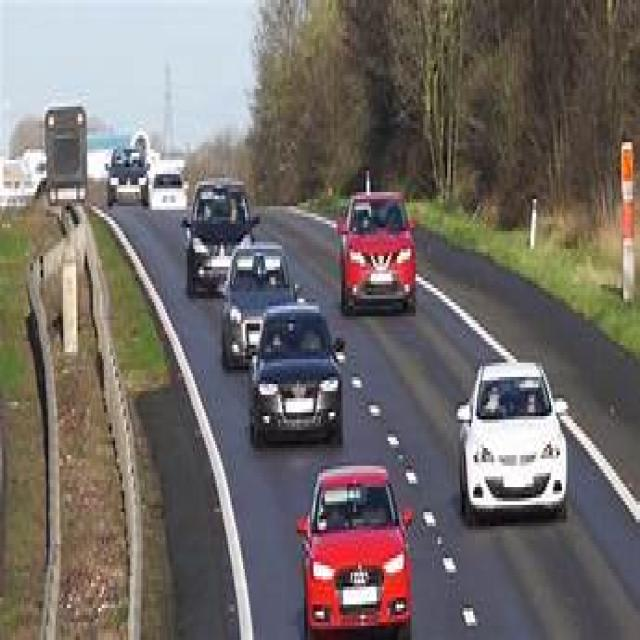Car: (181, 182, 346, 444), (298, 467, 412, 634), (456, 364, 568, 521), (339, 192, 416, 313), (108, 139, 149, 202)
